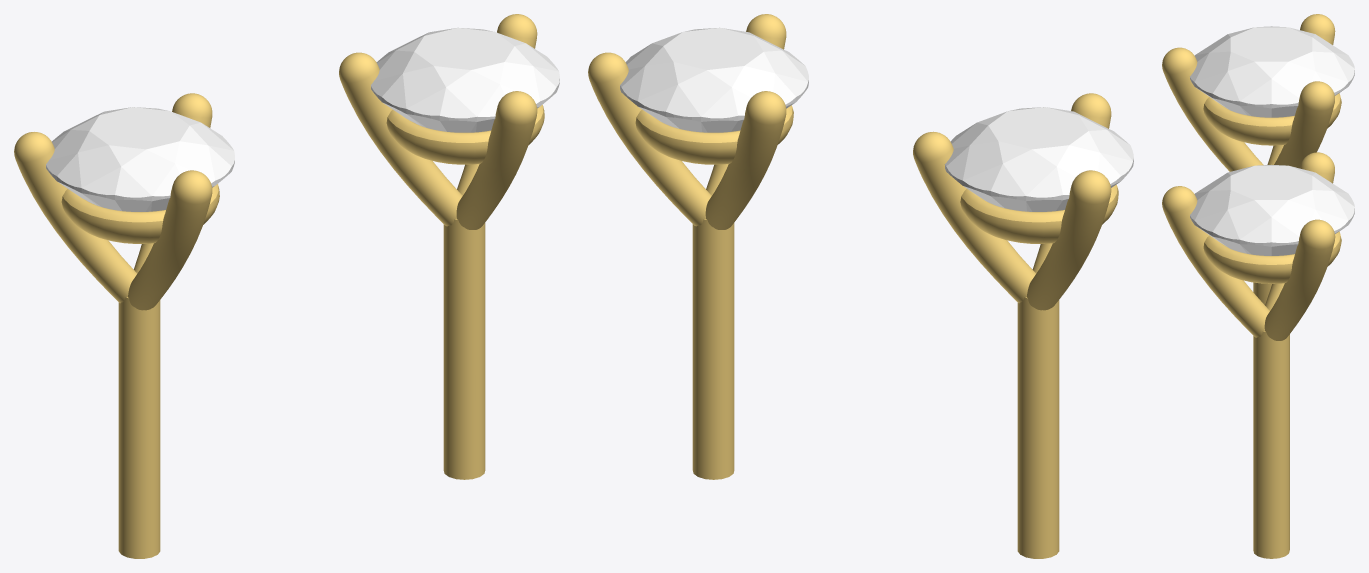
Rendered from Adamrubymartini_webgi.glb.
The picture shows the model from 3 angles, left to right: view 1: azimuth 30°, elevation 25°; view 2: azimuth 150°, elevation 25°; view 3: azimuth 270°, elevation 25°; orthographic projection. The views are drawn at different scales.
Parts seen in each view (by area): view 1: Adam_martini_YG_for_3d_model, Adam_martini_ruby_for_3d_model001, Adam_martini_ruby_for_3d_model; view 2: Adam_martini_YG_for_3d_model, Adam_martini_ruby_for_3d_model001, Adam_martini_ruby_for_3d_model; view 3: Adam_martini_YG_for_3d_model, Adam_martini_ruby_for_3d_model001, Adam_martini_ruby_for_3d_model.
Part boxes in pixels (x1,y1,x2,y2): Adam_martini_YG_for_3d_model: [14, 14, 544, 558]; Adam_martini_ruby_for_3d_model001: [46, 107, 234, 211]; Adam_martini_ruby_for_3d_model: [371, 27, 559, 132]; Adam_martini_YG_for_3d_model: [588, 14, 1118, 558]; Adam_martini_ruby_for_3d_model001: [944, 107, 1133, 211]; Adam_martini_ruby_for_3d_model: [620, 27, 808, 132]; Adam_martini_YG_for_3d_model: [1162, 14, 1341, 558]; Adam_martini_ruby_for_3d_model001: [1190, 26, 1354, 117]; Adam_martini_ruby_for_3d_model: [1190, 164, 1354, 255].
Size of the model in its own units: 3.03 by 2.36 by 1.12.
